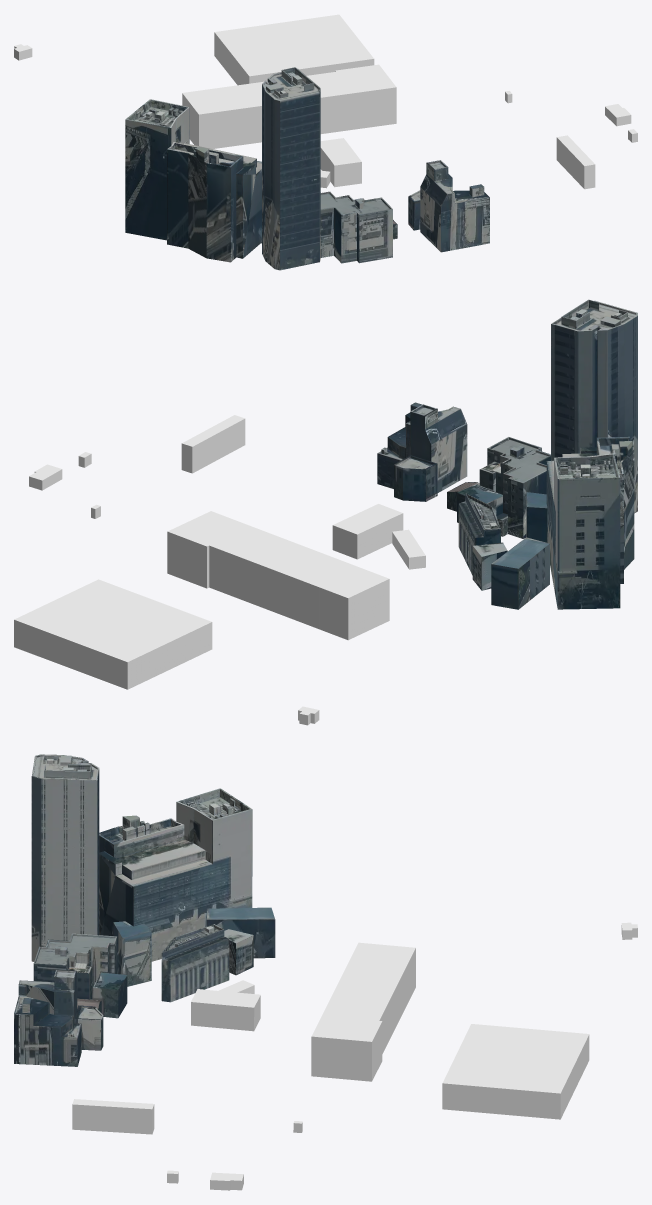
The model's file is data460.glb.
3 views of the same model, one above another, from view 1: azimuth 30°, elevation 25°; view 2: azimuth 150°, elevation 25°; view 3: azimuth 270°, elevation 25° (orthographic). The views are drawn at different scales.
Bounding box in the file's own units: 181 × 66.1 × 178.
Materials: 2 (1 with a texture image).
